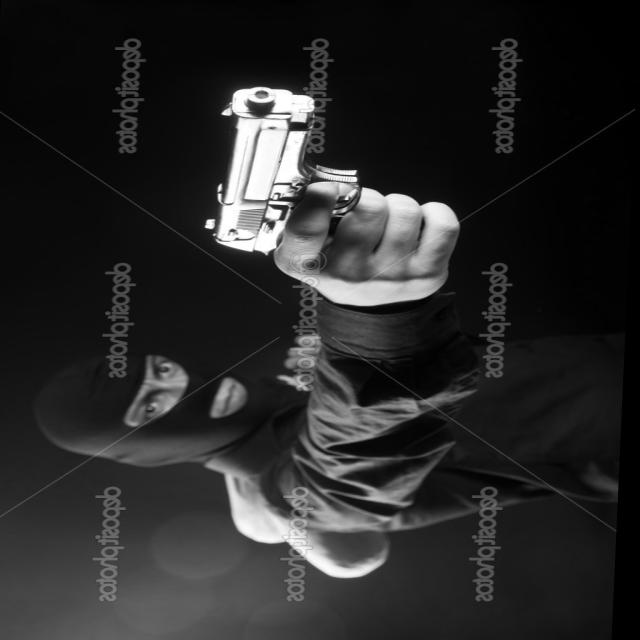handgun: (184, 80, 423, 265)
